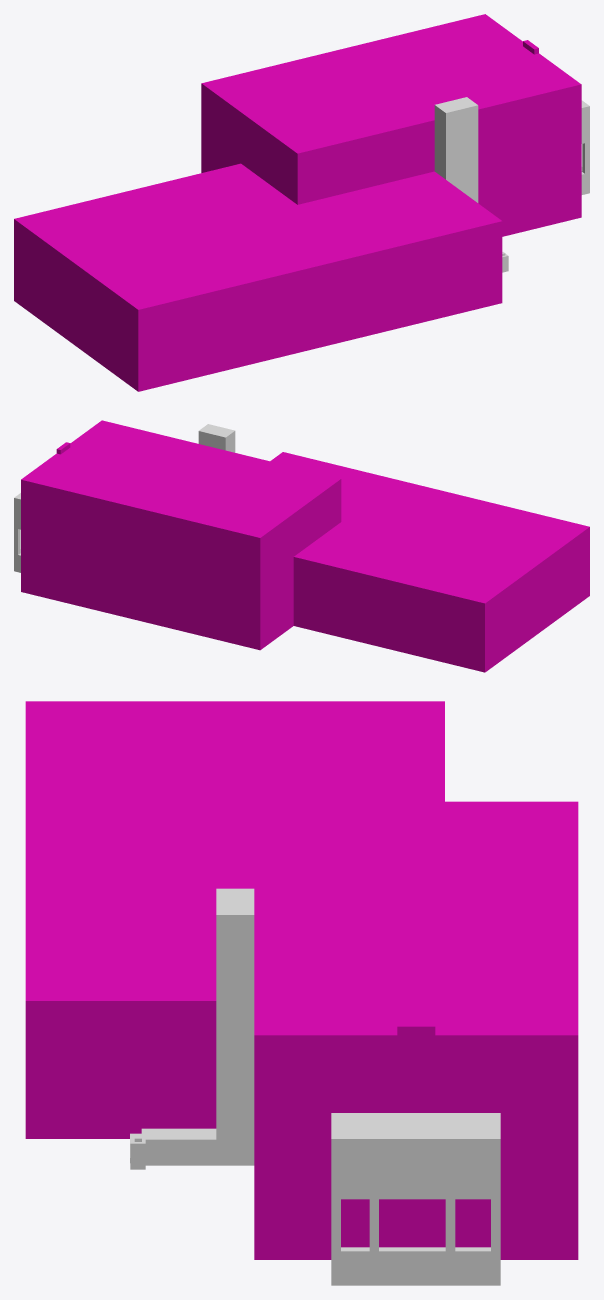
File: school.glb
The picture shows the model from 3 angles, top to bottom: view 1: azimuth 30°, elevation 25°; view 2: azimuth 150°, elevation 25°; view 3: azimuth 270°, elevation 25°; orthographic projection. The views are drawn at different scales.
Visible parts, largest first — view 1: School_Short, School_Tall.001, tower_section; view 2: School_Tall.001, School_Short, tower_section; view 3: School_Tall.001, School_Short, Main_entrance, tower_section, walls.002, side_wall_tower, stairs1.
Boxes of the visible parts, bbox=[...] form: School_Short: bbox=[14, 163, 502, 391]; School_Tall.001: bbox=[201, 14, 581, 236]; tower_section: bbox=[434, 97, 478, 202]; School_Tall.001: bbox=[21, 420, 341, 650]; School_Short: bbox=[270, 452, 589, 672]; tower_section: bbox=[198, 424, 235, 452]; School_Tall.001: bbox=[254, 801, 578, 1259]; School_Short: bbox=[25, 701, 444, 1138]; Main_entrance: bbox=[331, 1113, 500, 1199]; tower_section: bbox=[216, 888, 254, 1165]; walls.002: bbox=[341, 1247, 490, 1285]; side_wall_tower: bbox=[130, 1135, 216, 1169]; stairs1: bbox=[130, 1128, 216, 1162].
Size of the model in its own units: 55.39 by 14.5 by 29.
